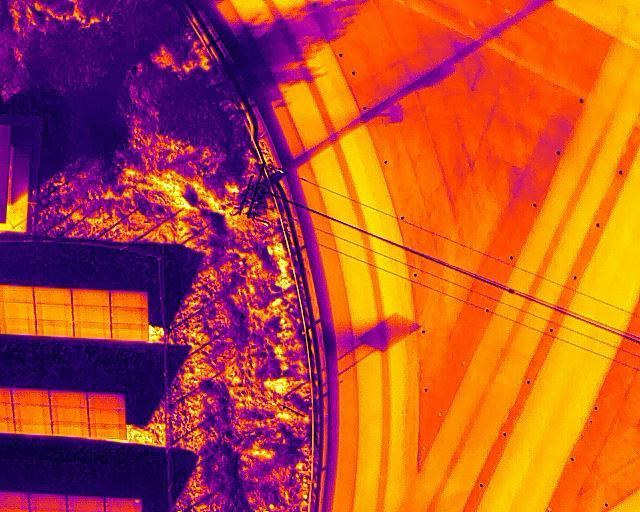Cell: (104, 497, 142, 512)
No-Anomaly: (50, 420, 89, 438), (89, 423, 127, 441), (111, 289, 149, 307), (110, 322, 148, 340), (33, 287, 72, 304), (72, 288, 111, 305), (30, 494, 66, 512), (73, 305, 111, 322), (35, 319, 73, 336), (9, 389, 49, 405), (36, 304, 73, 321), (110, 307, 149, 323), (12, 404, 51, 420), (49, 390, 88, 406), (89, 407, 125, 424), (66, 496, 104, 512), (13, 420, 51, 436), (73, 322, 111, 338), (50, 406, 89, 421), (2, 301, 36, 318), (1, 285, 35, 302), (3, 318, 36, 335), (88, 393, 125, 408), (0, 494, 29, 512)
